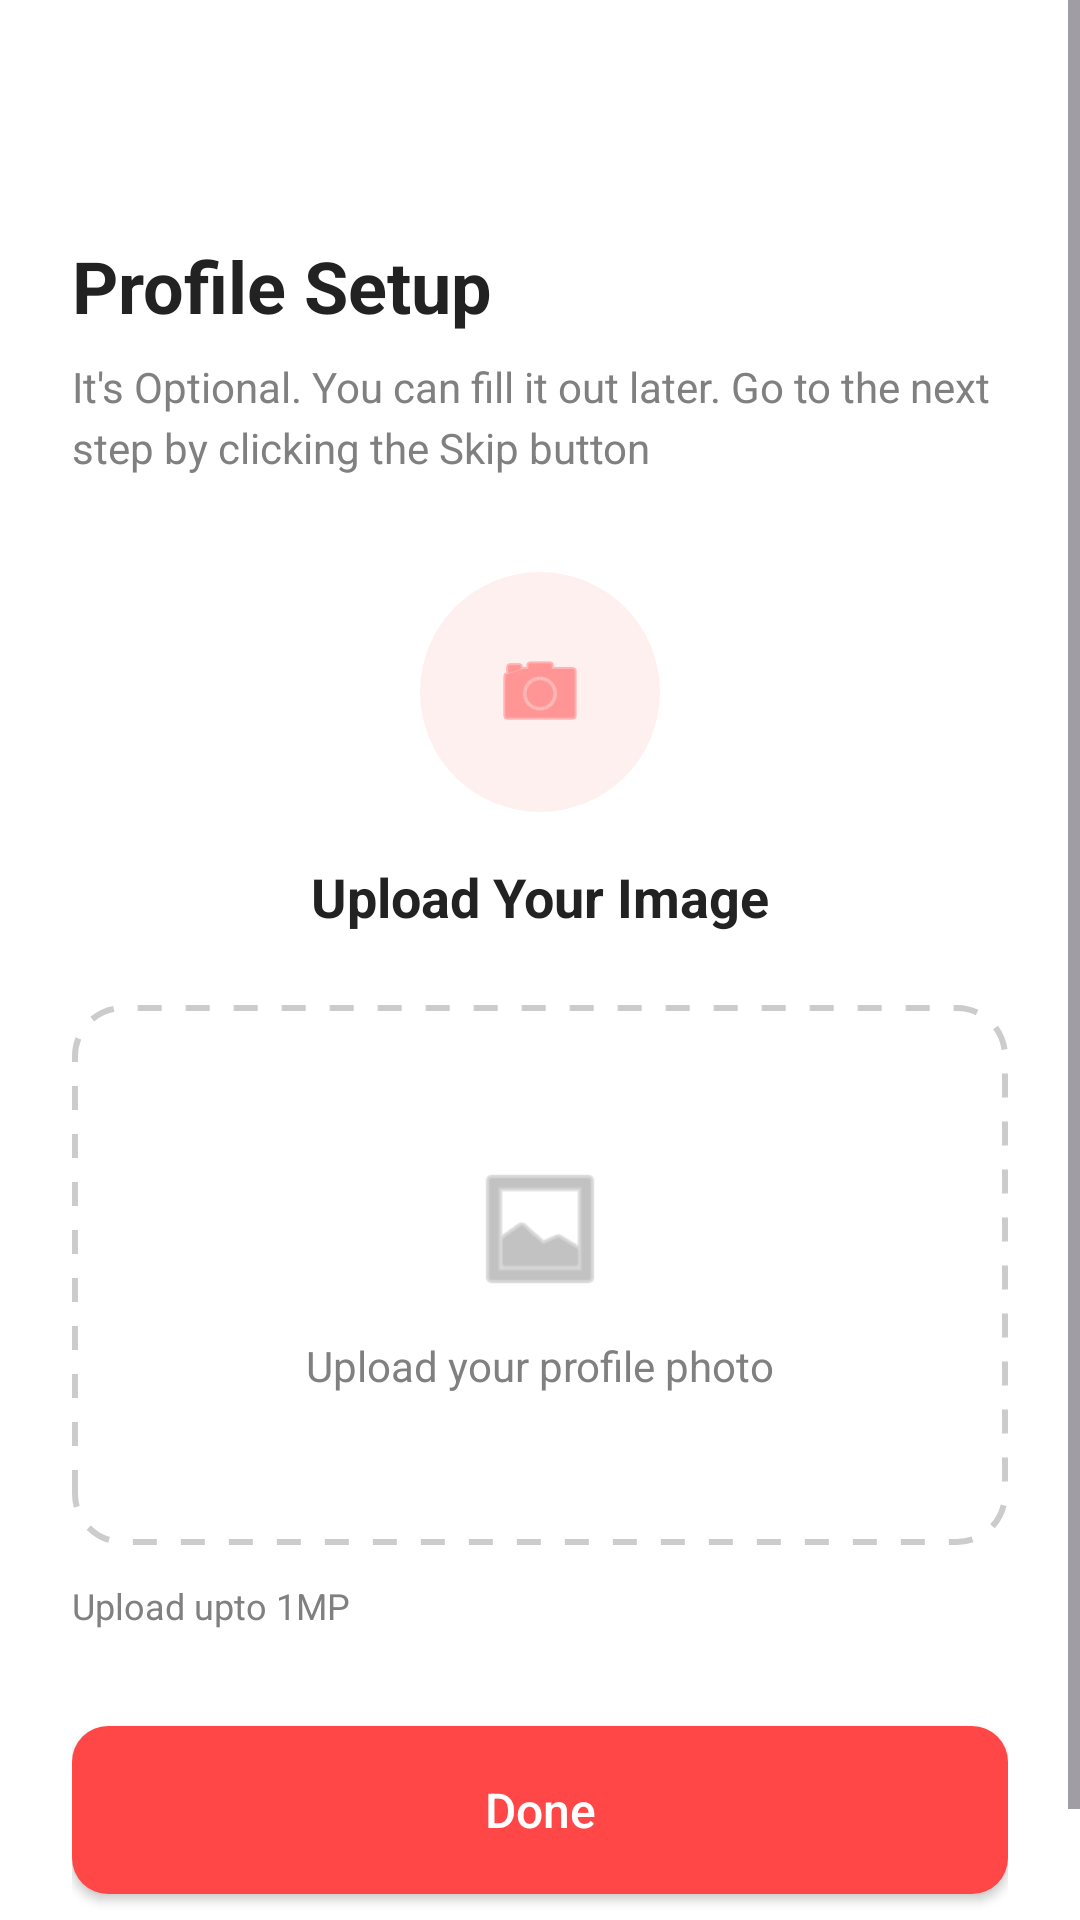

Named icons in this screenshot (1080px x 1920px) and their bounding boxes, (x1, y1, x2, y2):
camera: (503, 661, 577, 720)
gallery: (486, 1175, 594, 1283)
